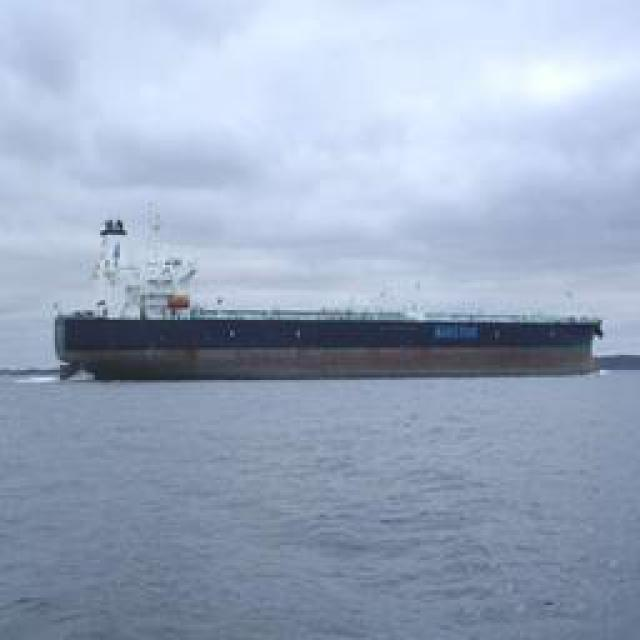Ship: (64, 305, 604, 378)
